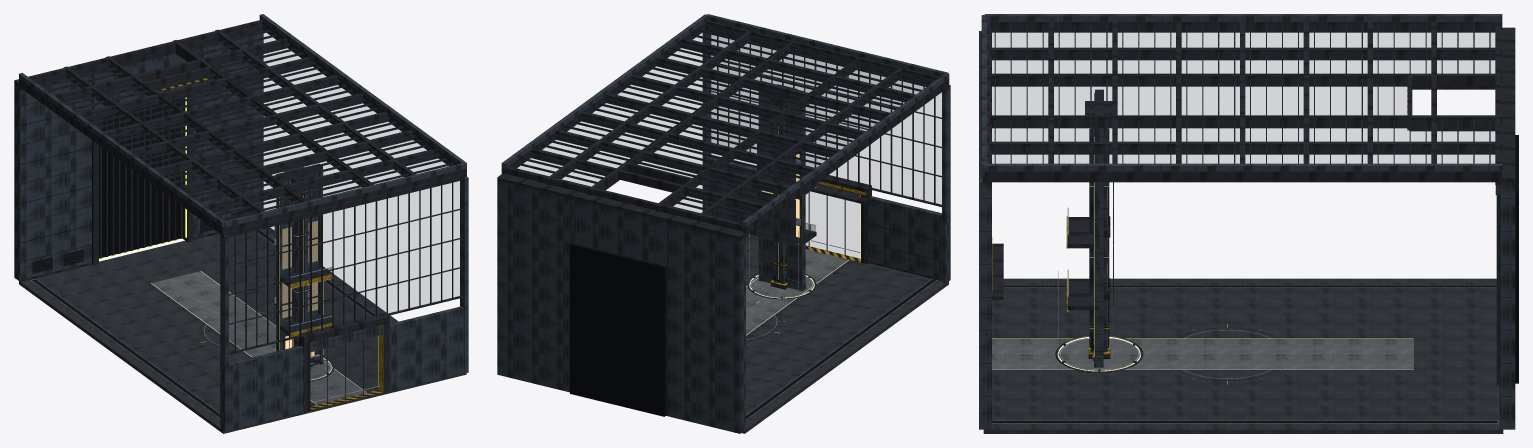
The model's file is end2-atrium-kit.glb.
3 renders of one model, left to right at view 1: azimuth 30°, elevation 25°; view 2: azimuth 150°, elevation 25°; view 3: azimuth 270°, elevation 25°, orthographic. The views are drawn at different scales.
Visible parts, largest first — view 1: a_skylight__at_gun, a_skylight__at_glass, a_floor__at_stone, a_portal__at_glass, a_far_wall__at_clad, a_portal__at_clad, a_portal__at_gun, a_far_wall__at_gun, a_far_wall__at_dark, a_floor__at_stone_lt, a_skylight__at_clad, a_bay_glass__at_clad (+9 smaller); view 2: a_skylight__at_gun, a_far_wall__at_clad, a_skylight__at_glass, a_floor__at_stone, a_far_wall__at_dark, a_portal__at_clad, a_portal__at_glass, a_portal__at_gun, a_skylight__at_clad, a_bay_wall_door__at_clad, a_far_wall__at_gun, a_floor__at_stone_lt (+6 smaller); view 3: a_floor__at_stone, a_skylight__at_gun, a_skylight__at_glass, a_floor__at_stone_lt, a_skylight__at_clad, a_far_wall__at_clad, a_portal__at_clad, a_far_wall__at_gun, a_floor__at_dark, a_floor__at_trim, a_bay_wall_door__at_gun, a_bay_glass__at_clad (+7 smaller).
Boxes of the visible parts, bbox=[...] form: a_skylight__at_gun: bbox=[19, 20, 466, 235]; a_skylight__at_glass: bbox=[33, 24, 454, 220]; a_floor__at_stone: bbox=[19, 227, 466, 433]; a_portal__at_glass: bbox=[229, 181, 460, 408]; a_far_wall__at_clad: bbox=[14, 33, 263, 281]; a_portal__at_clad: bbox=[220, 177, 468, 431]; a_portal__at_gun: bbox=[220, 173, 466, 429]; a_far_wall__at_gun: bbox=[14, 27, 263, 281]; a_far_wall__at_dark: bbox=[20, 68, 263, 273]; a_floor__at_stone_lt: bbox=[152, 271, 365, 404]; a_skylight__at_clad: bbox=[19, 14, 466, 227]; a_bay_glass__at_clad: bbox=[276, 169, 323, 365]; a_skylight__at_gun: bbox=[501, 20, 949, 235]; a_far_wall__at_clad: bbox=[497, 180, 745, 433]; a_skylight__at_glass: bbox=[511, 24, 935, 222]; a_floor__at_stone: bbox=[742, 234, 948, 433]; a_far_wall__at_dark: bbox=[570, 243, 665, 416]; a_portal__at_clad: bbox=[702, 30, 950, 283]; a_portal__at_glass: bbox=[806, 93, 941, 258]; a_portal__at_gun: bbox=[705, 27, 949, 281]; a_skylight__at_clad: bbox=[501, 14, 949, 227]; a_bay_wall_door__at_clad: bbox=[757, 92, 804, 290]; a_far_wall__at_gun: bbox=[497, 174, 747, 429]; a_floor__at_stone_lt: bbox=[746, 249, 848, 334]; a_floor__at_stone: bbox=[983, 278, 1503, 433]; a_skylight__at_gun: bbox=[984, 22, 1502, 182]; a_skylight__at_glass: bbox=[990, 25, 1501, 162]; a_floor__at_stone_lt: bbox=[992, 339, 1413, 369]; a_skylight__at_clad: bbox=[981, 14, 1502, 171]; a_far_wall__at_clad: bbox=[1496, 182, 1515, 429]; a_portal__at_clad: bbox=[979, 31, 991, 429]; a_far_wall__at_gun: bbox=[1495, 27, 1515, 429]; a_floor__at_dark: bbox=[992, 285, 1497, 423]; a_floor__at_trim: bbox=[992, 285, 1498, 423]; a_bay_wall_door__at_gun: bbox=[1067, 216, 1110, 310]; a_bay_glass__at_clad: bbox=[1094, 93, 1103, 367].
Size of the model in its own units: 39.4 by 32.5 by 59.2.
Materials: 12 (6 with a texture image).
